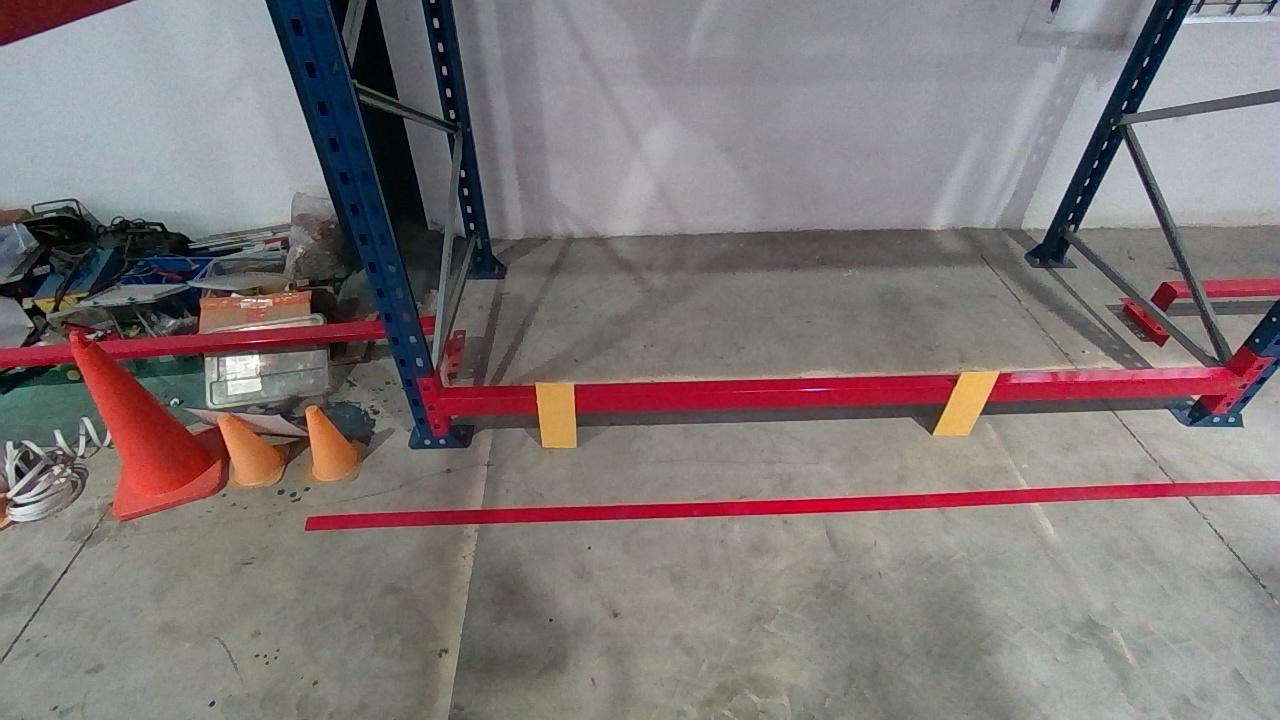h_rack: (445, 379, 1236, 415)
orange_strip: (931, 370, 1003, 434), (535, 383, 577, 447)
red_line: (302, 479, 1275, 531)
